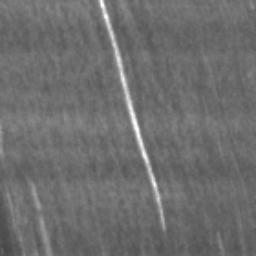Bright scratch: (99, 0, 164, 229), (31, 186, 51, 255)
